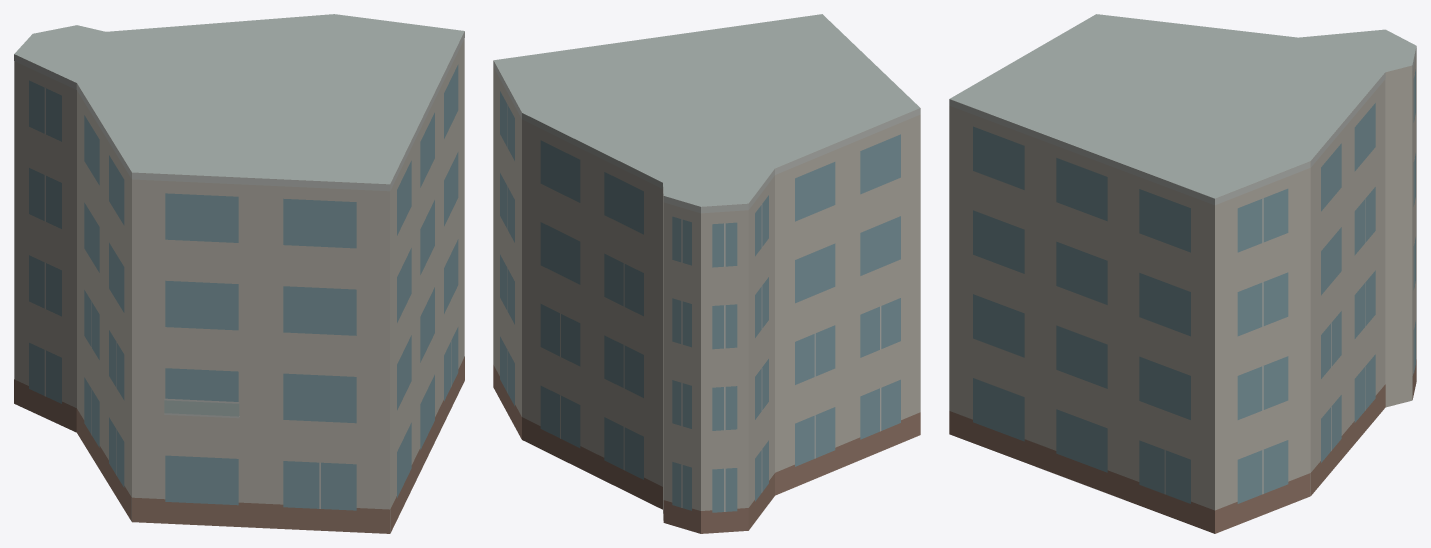
Rendered from survey-upis-32773692.glb.
The picture shows the model from 3 angles, left to right: view 1: azimuth 30°, elevation 25°; view 2: azimuth 150°, elevation 25°; view 3: azimuth 270°, elevation 25°; orthographic projection. The views are drawn at different scales.
Parts seen in each view (by area): view 1: survey-upis-32773692.tmp; view 2: survey-upis-32773692.tmp; view 3: survey-upis-32773692.tmp.
Boxes of the visible parts, <box> form: survey-upis-32773692.tmp: <box>14,14,464,533</box>; survey-upis-32773692.tmp: <box>493,14,920,533</box>; survey-upis-32773692.tmp: <box>949,14,1416,533</box>.
Bounding box in the file's own units: 14.42 × 12.2 × 15.42.
